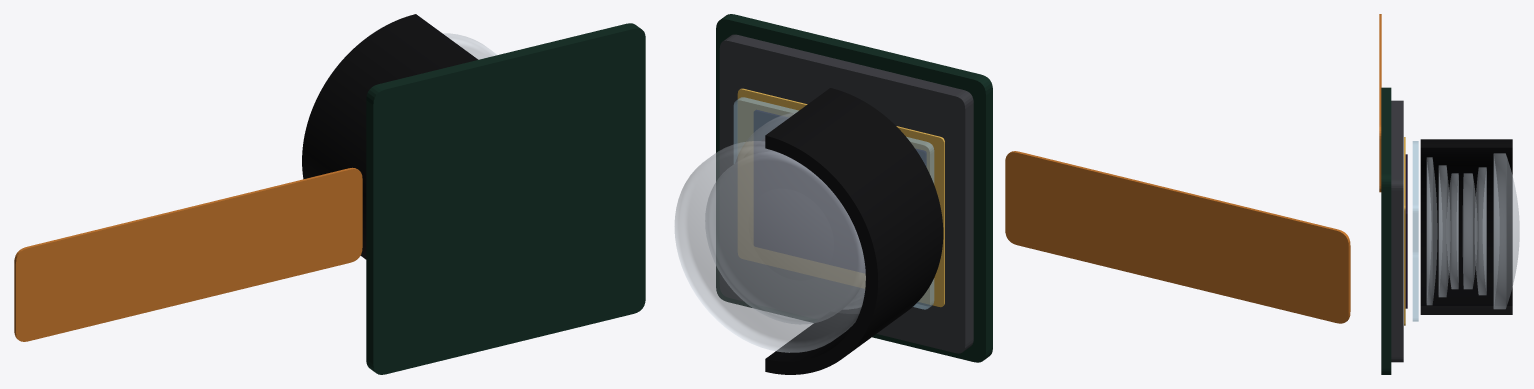
Rendered from ultra-wide-camera.glb.
3 views of the same model, side by side, from view 1: azimuth 30°, elevation 25°; view 2: azimuth 150°, elevation 25°; view 3: azimuth 270°, elevation 25° (orthographic). The views are drawn at different scales.
Parts seen in each view (by area): view 1: ultra-wide-camera; view 2: ultra-wide-camera; view 3: ultra-wide-camera.
Boxes of the visible parts, <box> form: ultra-wide-camera: <box>14,14,645,374</box>; ultra-wide-camera: <box>674,14,1350,374</box>; ultra-wide-camera: <box>1379,14,1519,374</box>.
Bounding box in the file's own units: 0.17 × 0.0733 × 0.0467.
